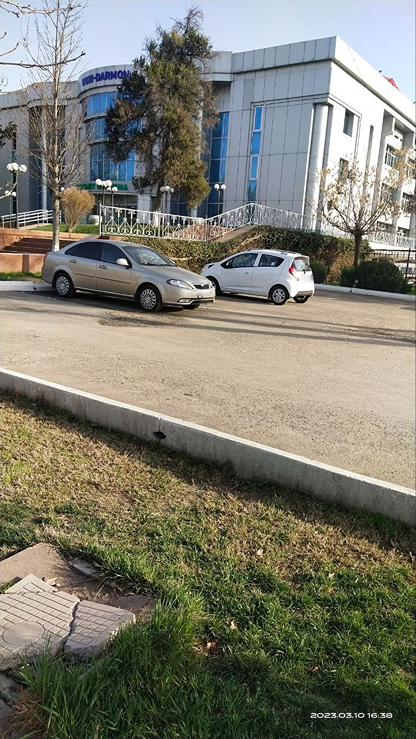car: (30, 230, 214, 315), (198, 239, 330, 301)
tree: (105, 9, 260, 201), (9, 0, 83, 214), (321, 155, 416, 275)
